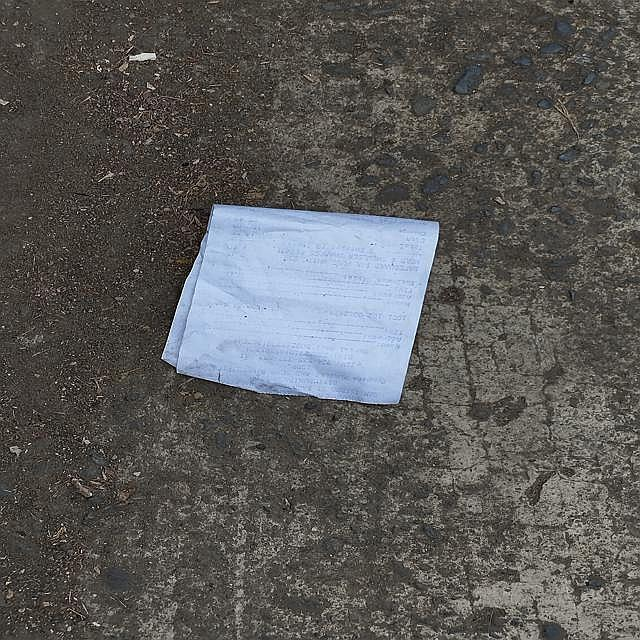Biodegradable: (159, 203, 443, 409)
